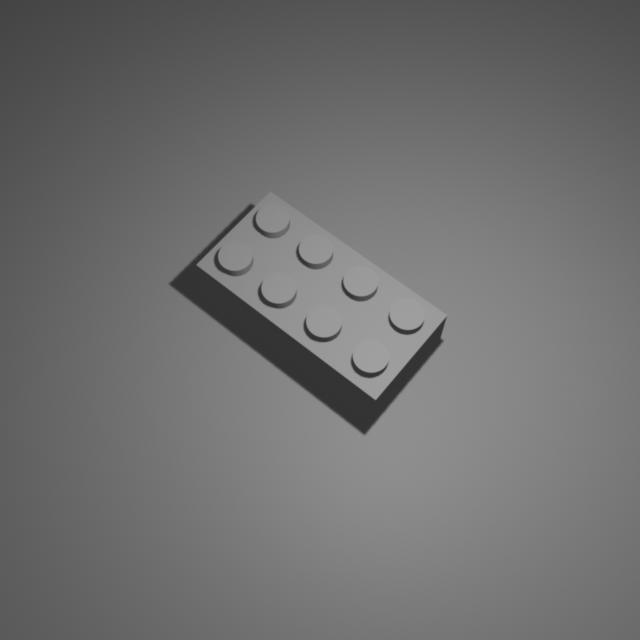lego_2x4: (195, 185, 449, 424)
